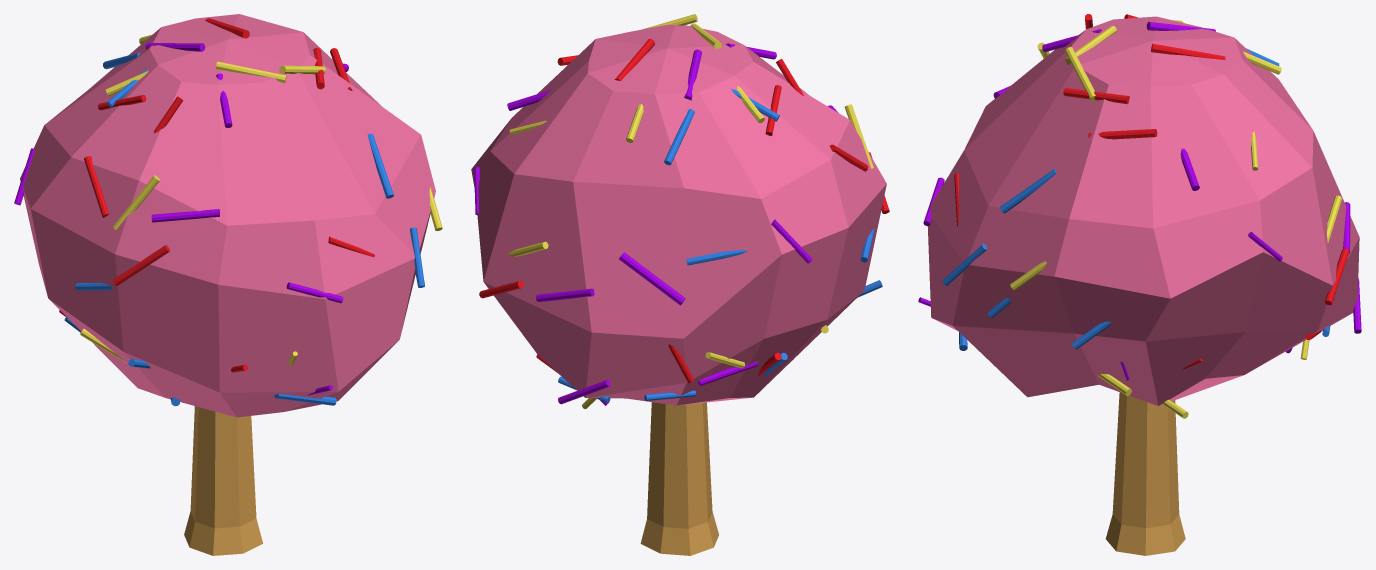
File: Tree_stem_01.026.fbx
3 views of the same model, side by side, from view 1: azimuth 30°, elevation 25°; view 2: azimuth 150°, elevation 25°; view 3: azimuth 270°, elevation 25° (orthographic). The views are drawn at different scales.
Visible parts, largest first — view 1: Tree_stem_01.026; view 2: Tree_stem_01.026; view 3: Tree_stem_01.026.
Part boxes in pixels (box(x1,y1,x2,y2)): Tree_stem_01.026: box(14, 14, 442, 555); Tree_stem_01.026: box(471, 14, 889, 555); Tree_stem_01.026: box(918, 14, 1361, 555).
Bounding box in the file's own units: 207 × 261 × 206.
